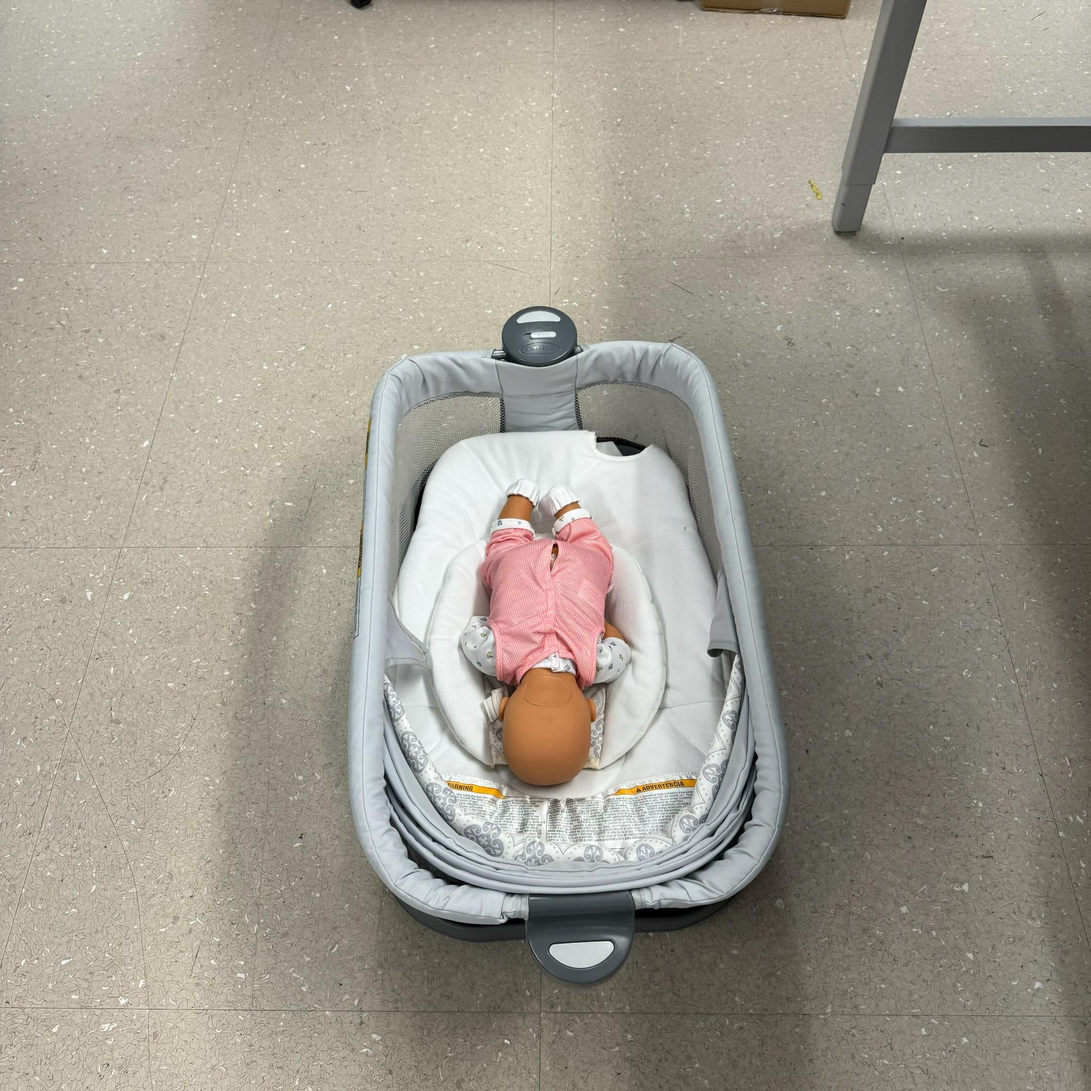baby: (456, 470, 636, 797)
